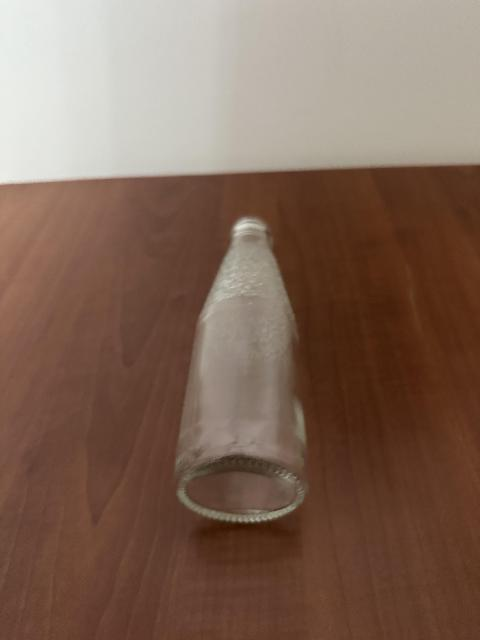Cam: (178, 216, 310, 535)
